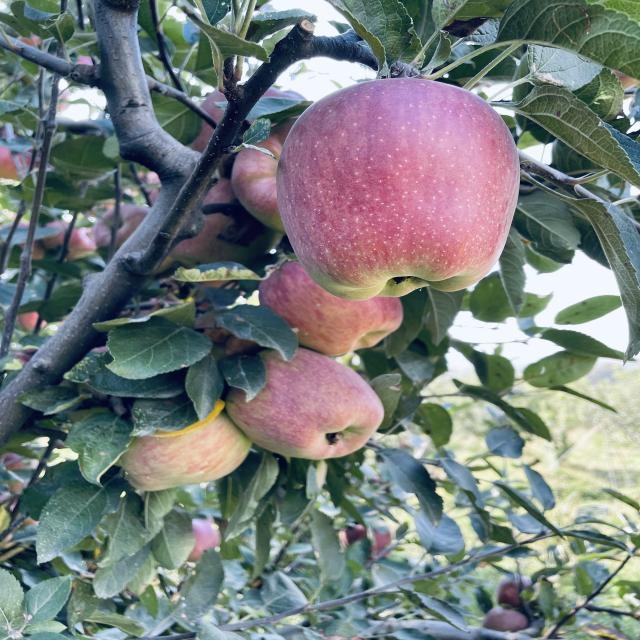Apple: (277, 79, 520, 300), (227, 348, 385, 460), (258, 261, 403, 356), (120, 414, 252, 491), (172, 179, 275, 265), (232, 149, 285, 232), (258, 118, 297, 158), (202, 90, 227, 121), (192, 122, 213, 151), (263, 88, 305, 100)
